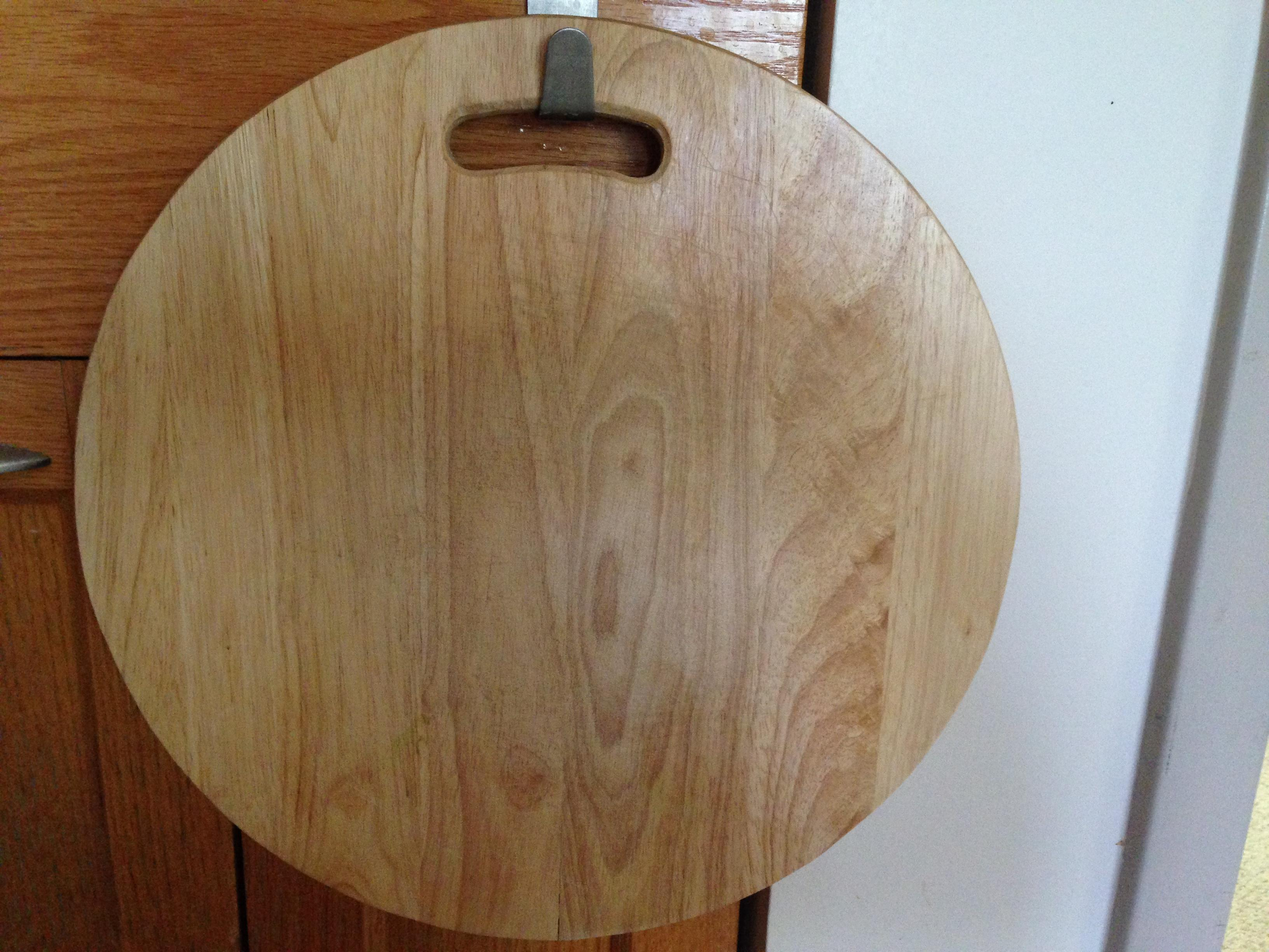gloved_hand: (55, 12, 1026, 952)
